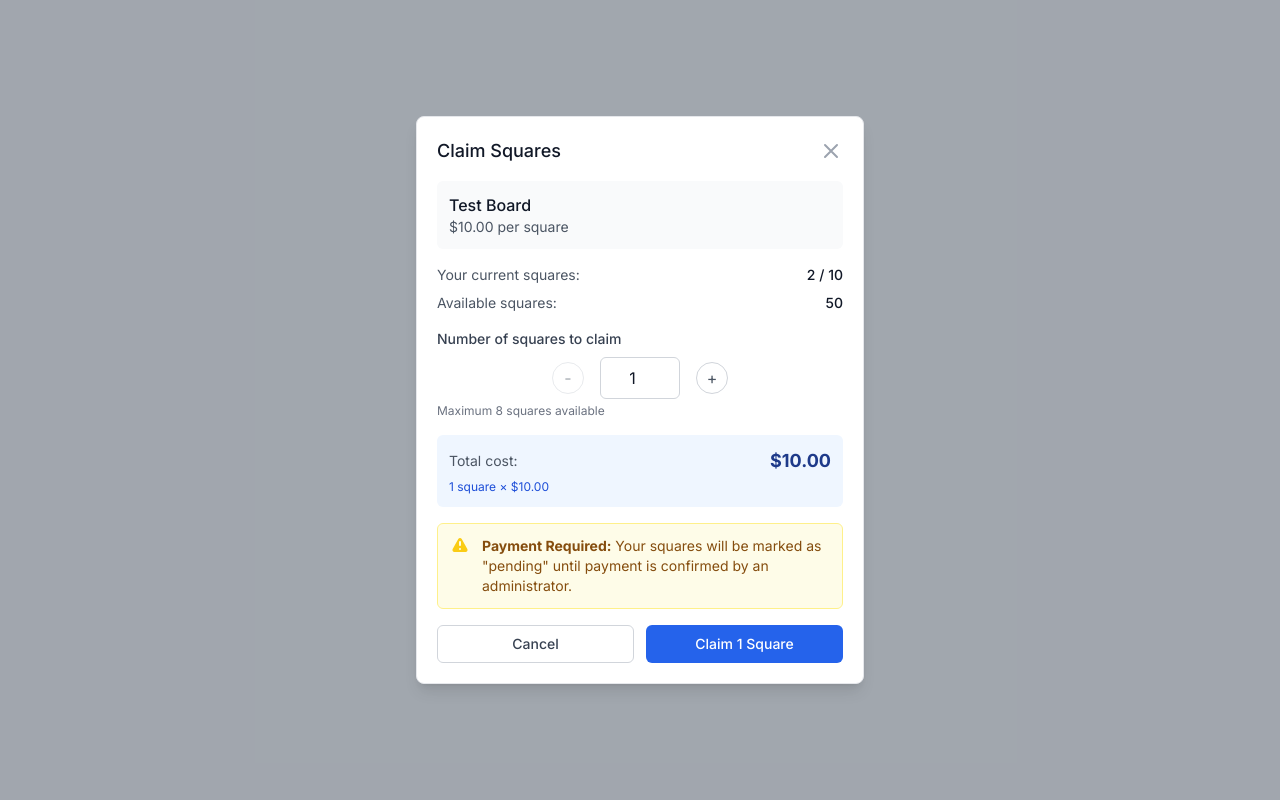
Scenario: SquareClaimModal › calculates total cost correctly
expect the text "$10.00" is shown: met, box 770,447 -> 831,475
Click the button "+": point(712, 378) 696,362 -> 728,394
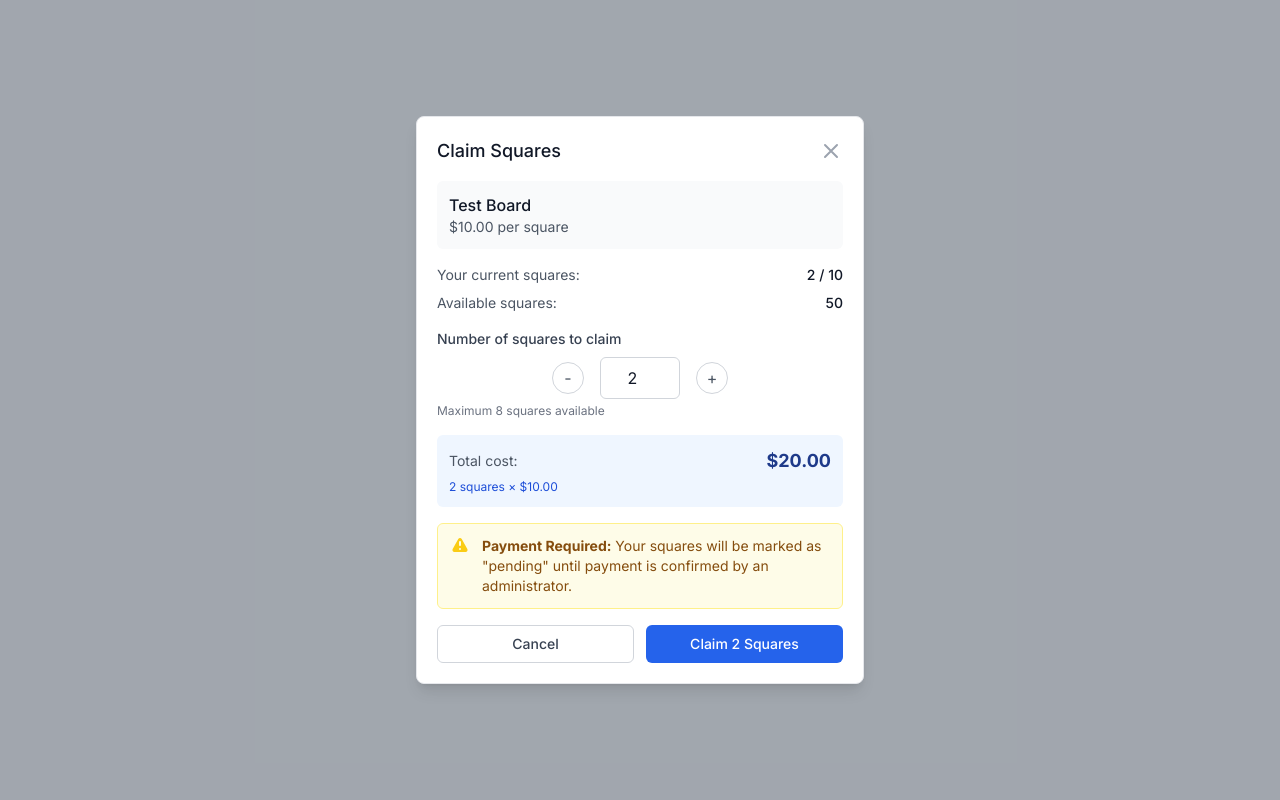
expect the text "$20.00" is shown: met, box 766,447 -> 831,475
